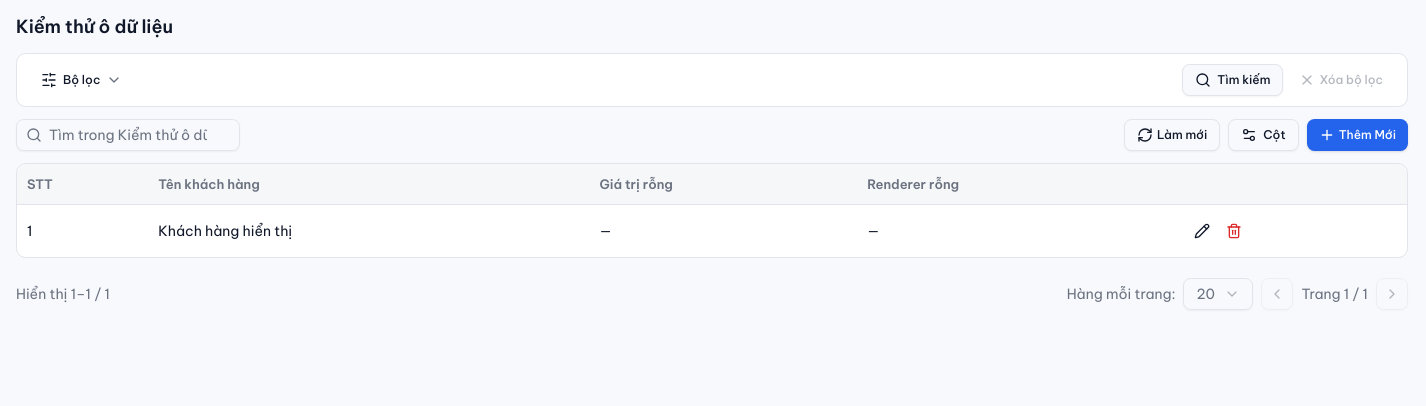
Test: CrudTablePage cell rendering › renders configured filters through FilterPanel and clears active values
Click the button "Bộ lọc" at (82,80), box [33,64,130,96]
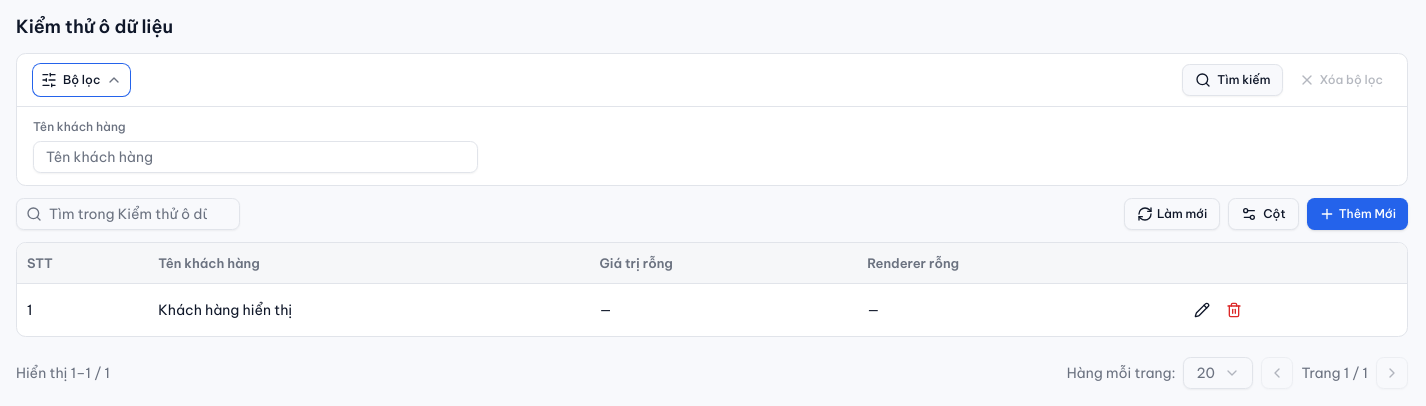
Type "Minh" into the field labelled "Tên khách hàng" at (255,157), box [33,141,478,173]
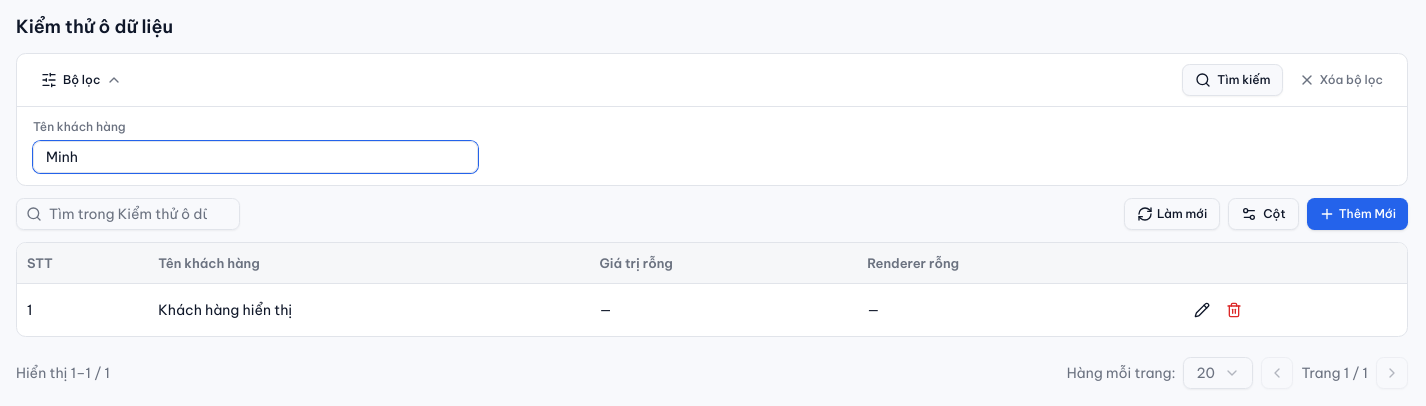
Check: the button "Tìm kiếm" is shown, box [1182,64,1283,96]
Check: the button "Xóa bộ lọc" is enabled
Click the button "Xóa bộ lọc" at (1341,80), box [1291,64,1391,96]
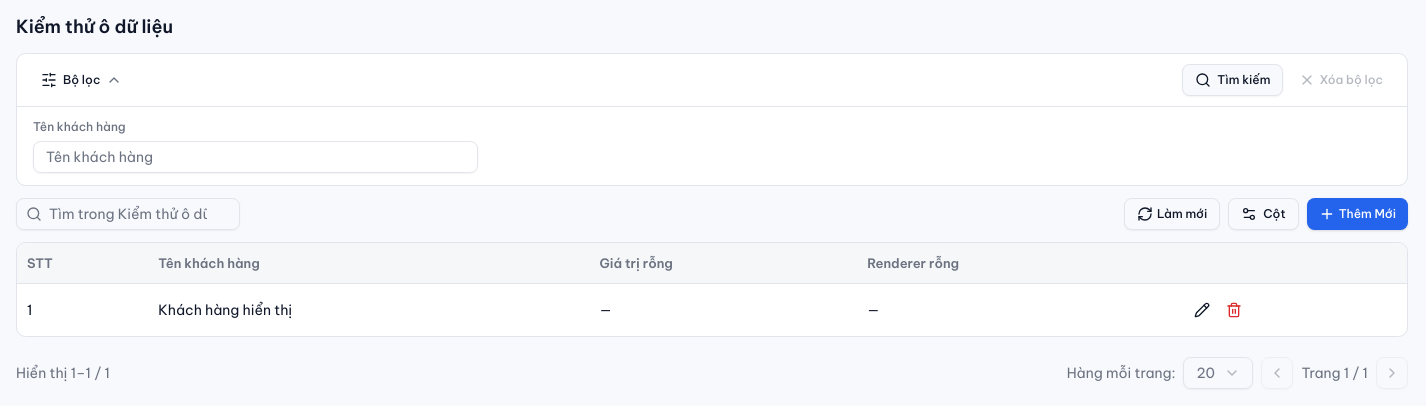
Check: the field labelled "Tên khách hàng" is empty, box [33,141,478,173]
Check: the button "Xóa bộ lọc" is disabled, box [1291,64,1391,96]
